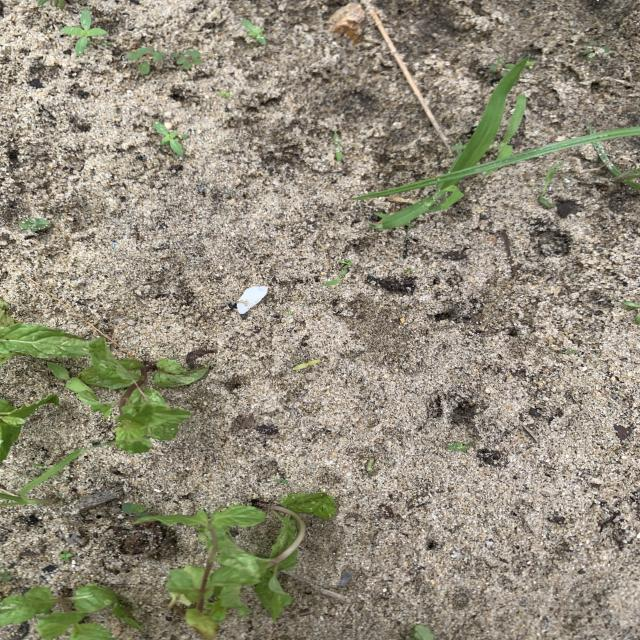crop: (162, 493, 332, 639), (49, 337, 206, 451), (0, 584, 139, 639), (0, 300, 92, 362), (1, 398, 51, 460)
weed: (371, 59, 527, 230), (1, 449, 83, 506), (61, 9, 106, 55), (497, 94, 527, 160), (127, 48, 201, 74), (154, 122, 187, 154), (243, 19, 266, 43), (582, 42, 609, 59), (489, 57, 513, 74), (20, 218, 49, 231), (123, 502, 147, 517), (623, 301, 639, 323), (446, 440, 475, 451), (333, 130, 342, 162), (338, 260, 353, 276), (294, 360, 319, 369), (366, 457, 375, 472), (58, 551, 73, 559)
